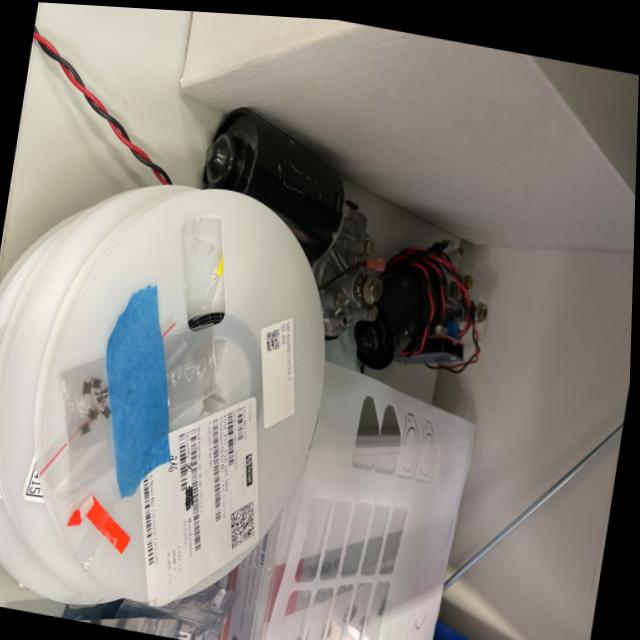datamatrix: (227, 494, 263, 552)
qrcode: (265, 323, 284, 353)
